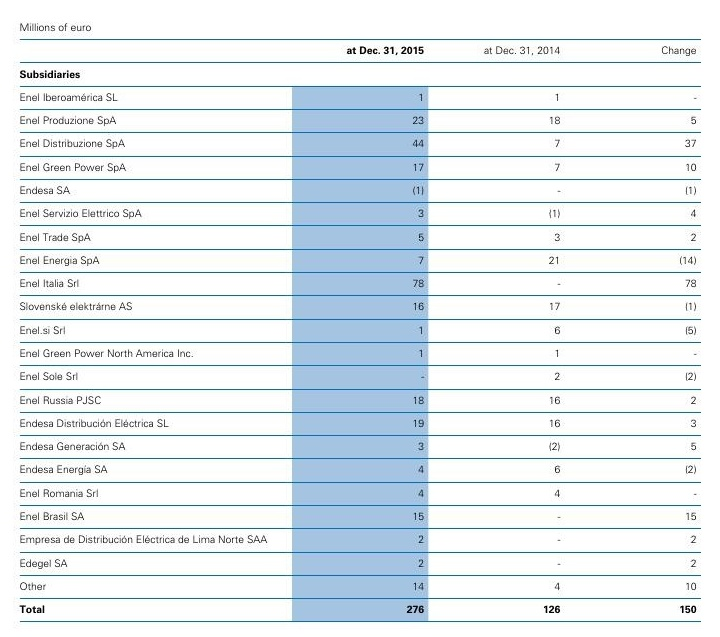table: (0, 0, 720, 637)
